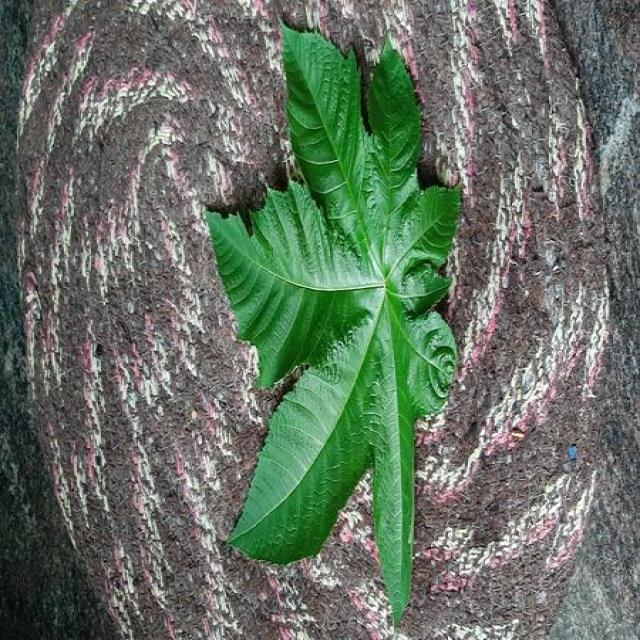seedling blight: (207, 26, 460, 622)
